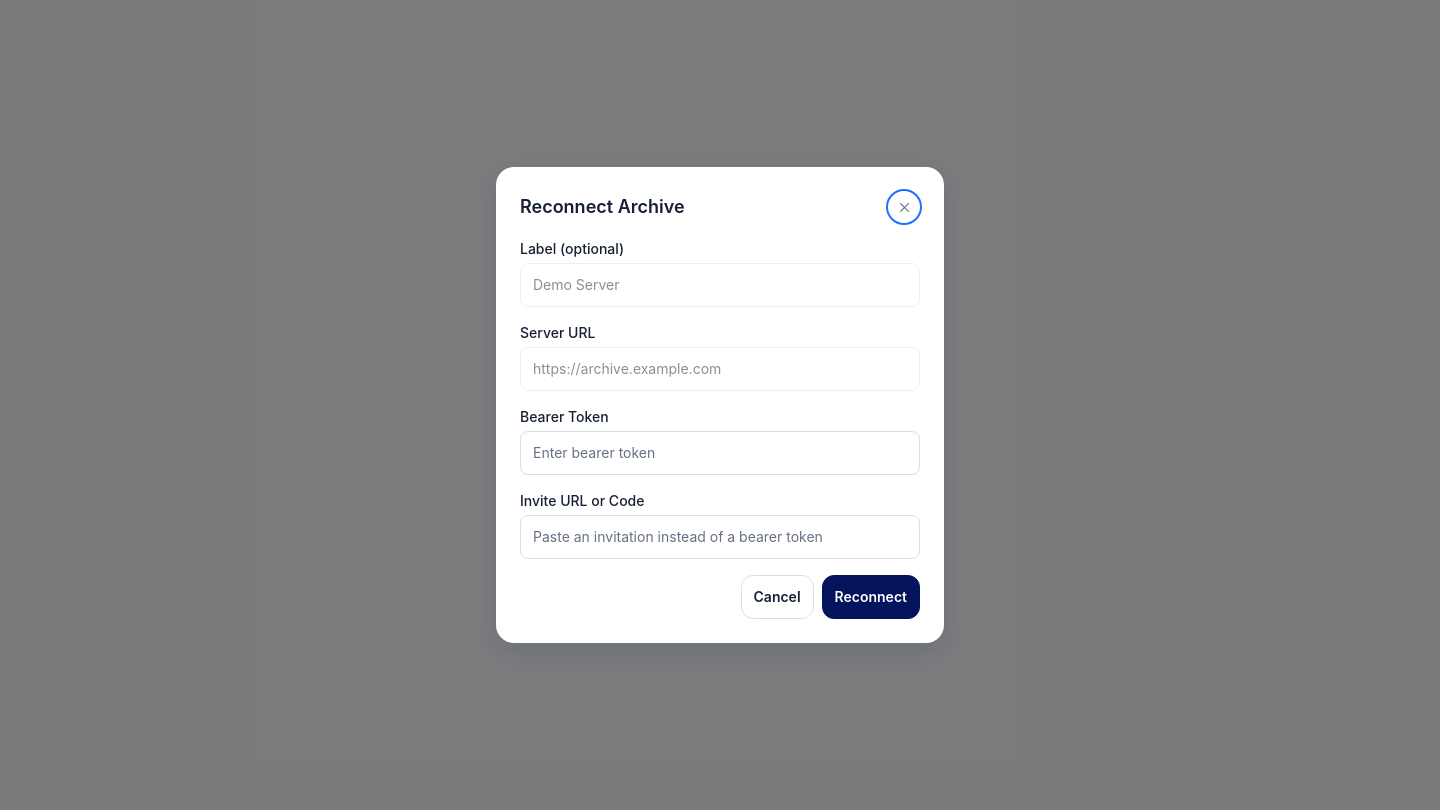
Test case: EditArchiveServerDialog › shows fresh-invitation guidance when a reconnect invite is expired
Step 1. Click the field labelled "Invite URL or Code" → (720, 537), box [520,515,920,559]
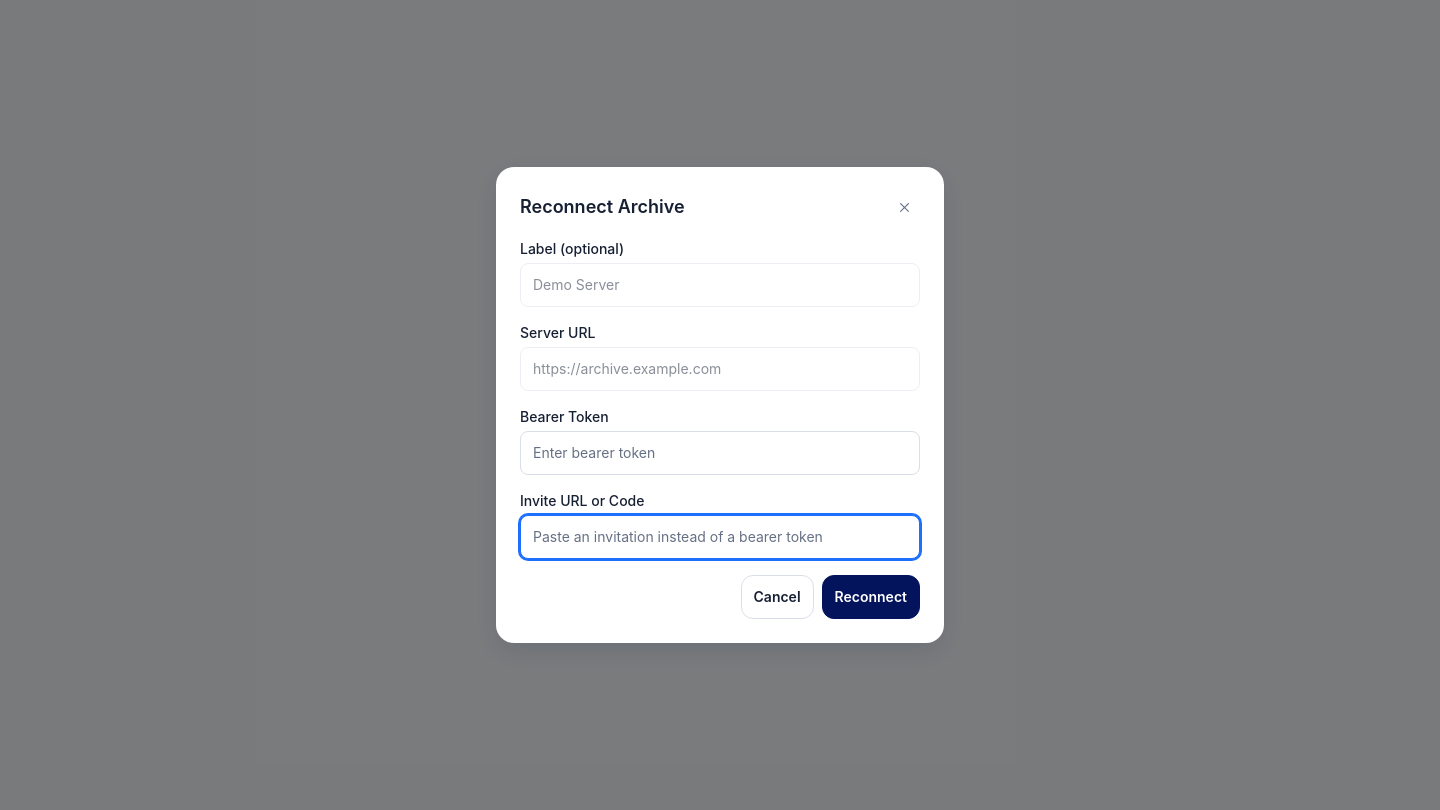
Step 2. Type keys "https://app.example.com/invite?code=expired"
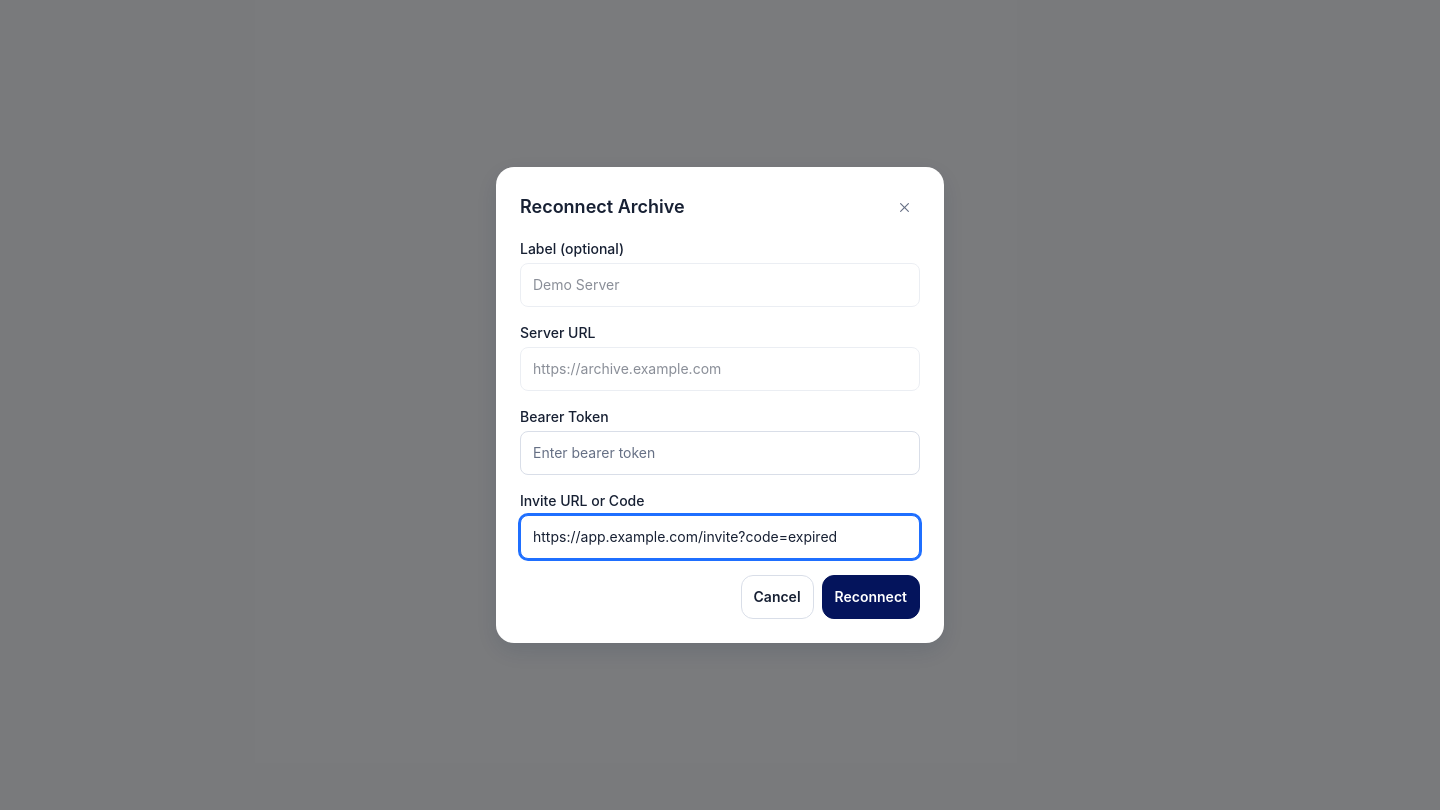
Step 3. Click the button "Reconnect" → (871, 597), box [822,575,920,619]
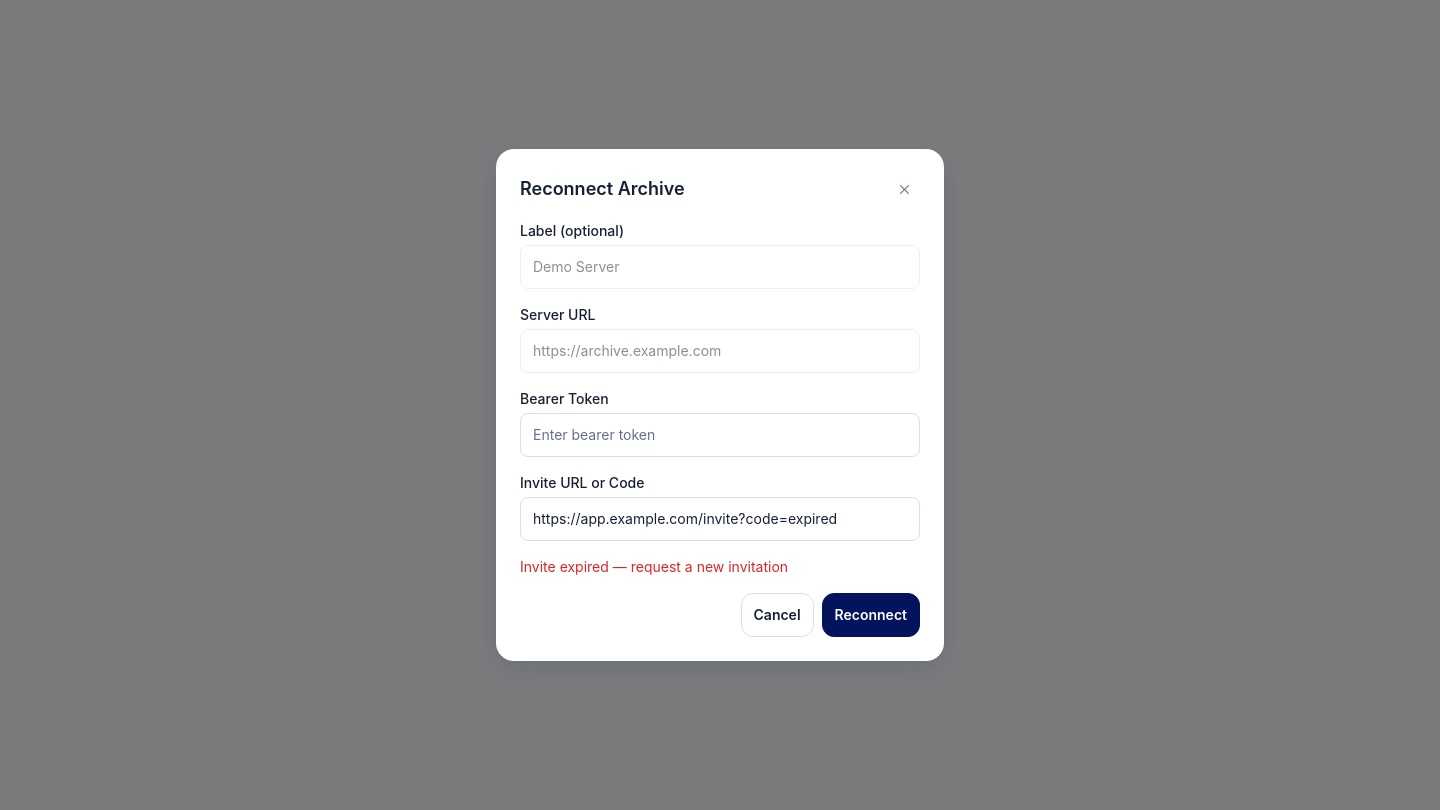
Check: the text "Invite expired — request a new invitation" is shown, box [520,558,788,575]
